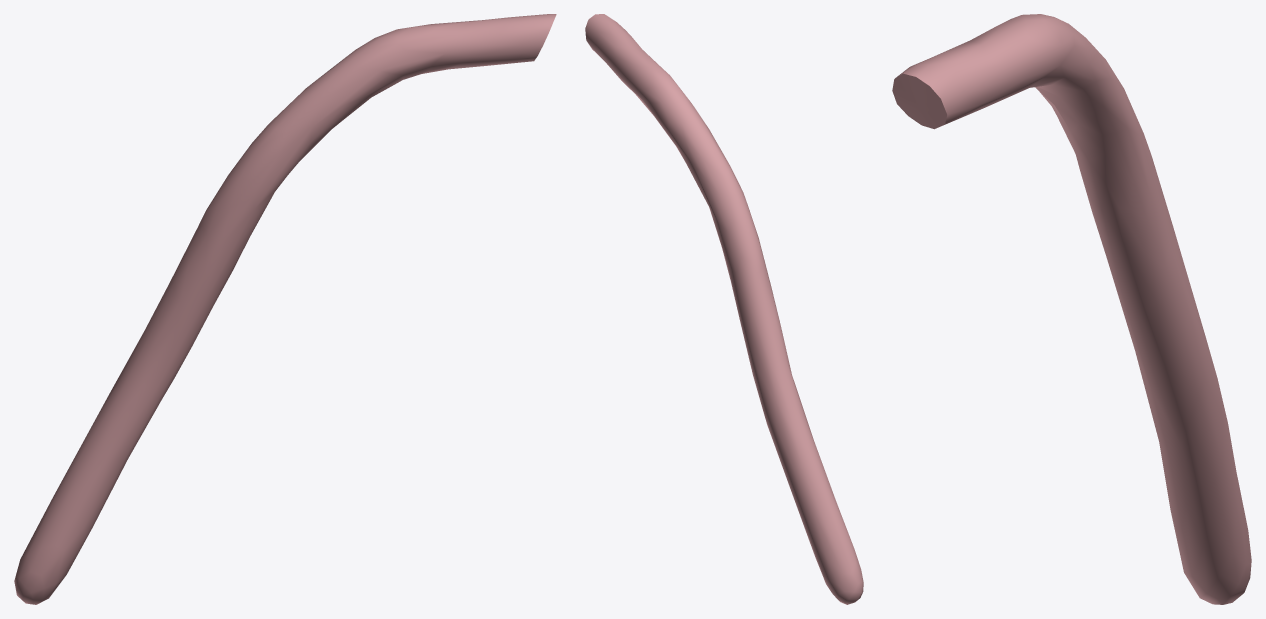
File: fma78487-l_mm3091.glb
3 renders of one model, left to right at view 1: azimuth 30°, elevation 25°; view 2: azimuth 150°, elevation 25°; view 3: azimuth 270°, elevation 25°, orthographic. The views are drawn at different scales.
Visible parts, largest first — view 1: FMA78487-L_MM3091; view 2: FMA78487-L_MM3091; view 3: FMA78487-L_MM3091.
Boxes of the visible parts, <box> form: FMA78487-L_MM3091: <box>14,14,556,604</box>; FMA78487-L_MM3091: <box>585,14,863,604</box>; FMA78487-L_MM3091: <box>892,14,1251,604</box>.
Size of the model in its own units: 0.0119 by 0.0144 by 0.00567.
